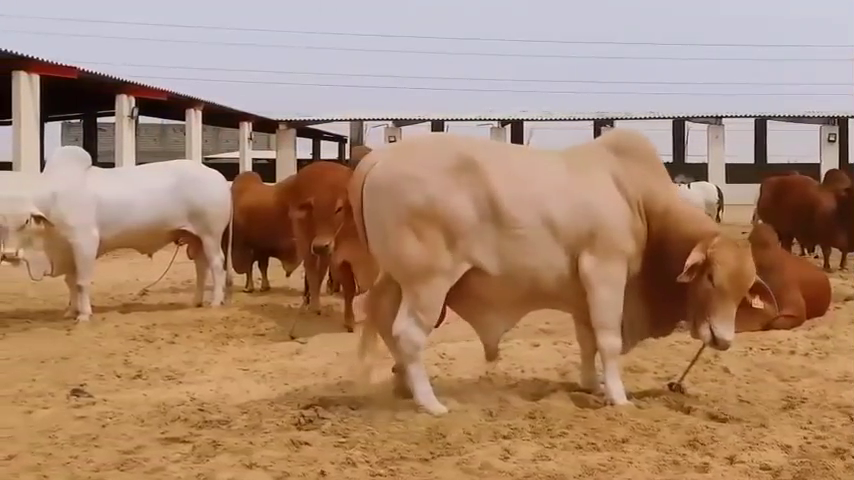bo: (350, 117, 781, 416), (2, 140, 235, 319), (289, 146, 368, 342), (726, 221, 835, 338), (217, 139, 293, 298), (756, 164, 854, 262), (663, 163, 739, 233)
